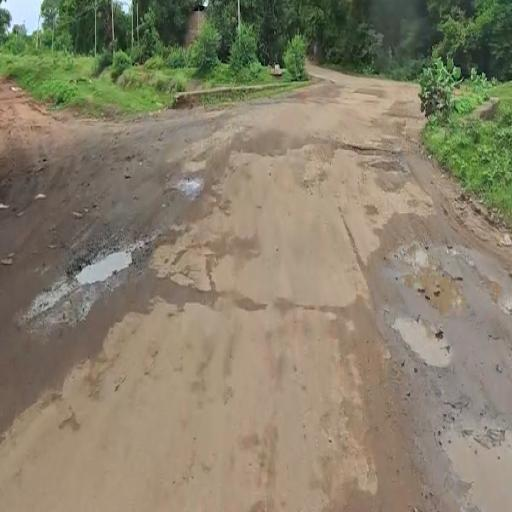pothole: (360, 180, 488, 408), (62, 216, 151, 334), (161, 146, 222, 228)
